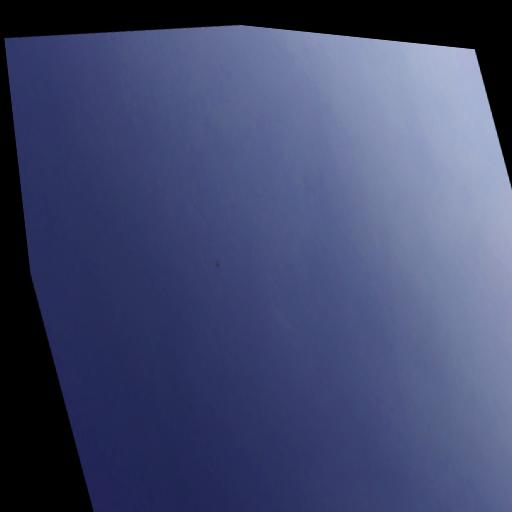drones: (213, 258, 221, 270)
